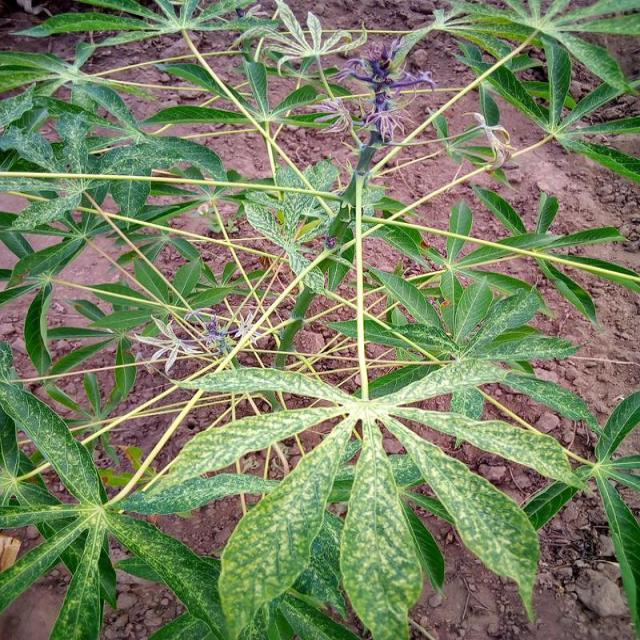cassava leaf: (0, 1, 638, 638), (381, 411, 541, 624), (216, 413, 354, 638), (338, 418, 424, 638)
